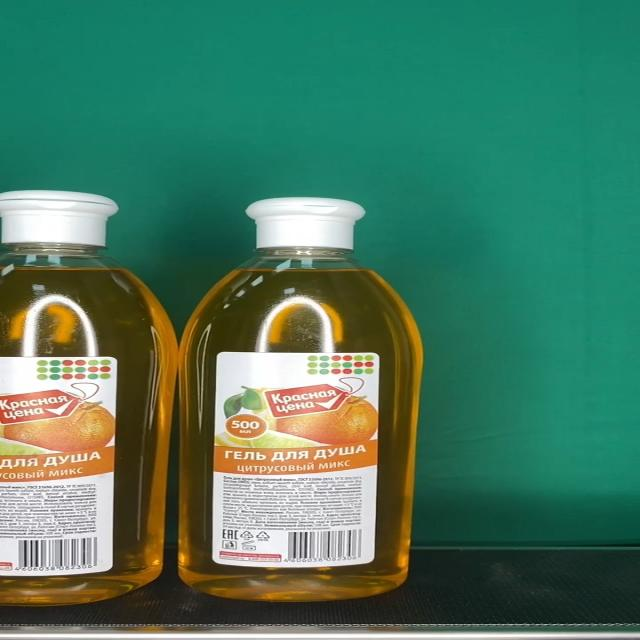Bottle: (178, 197, 422, 602), (0, 190, 178, 606)
Cap: (0, 190, 118, 246), (244, 198, 366, 250)
